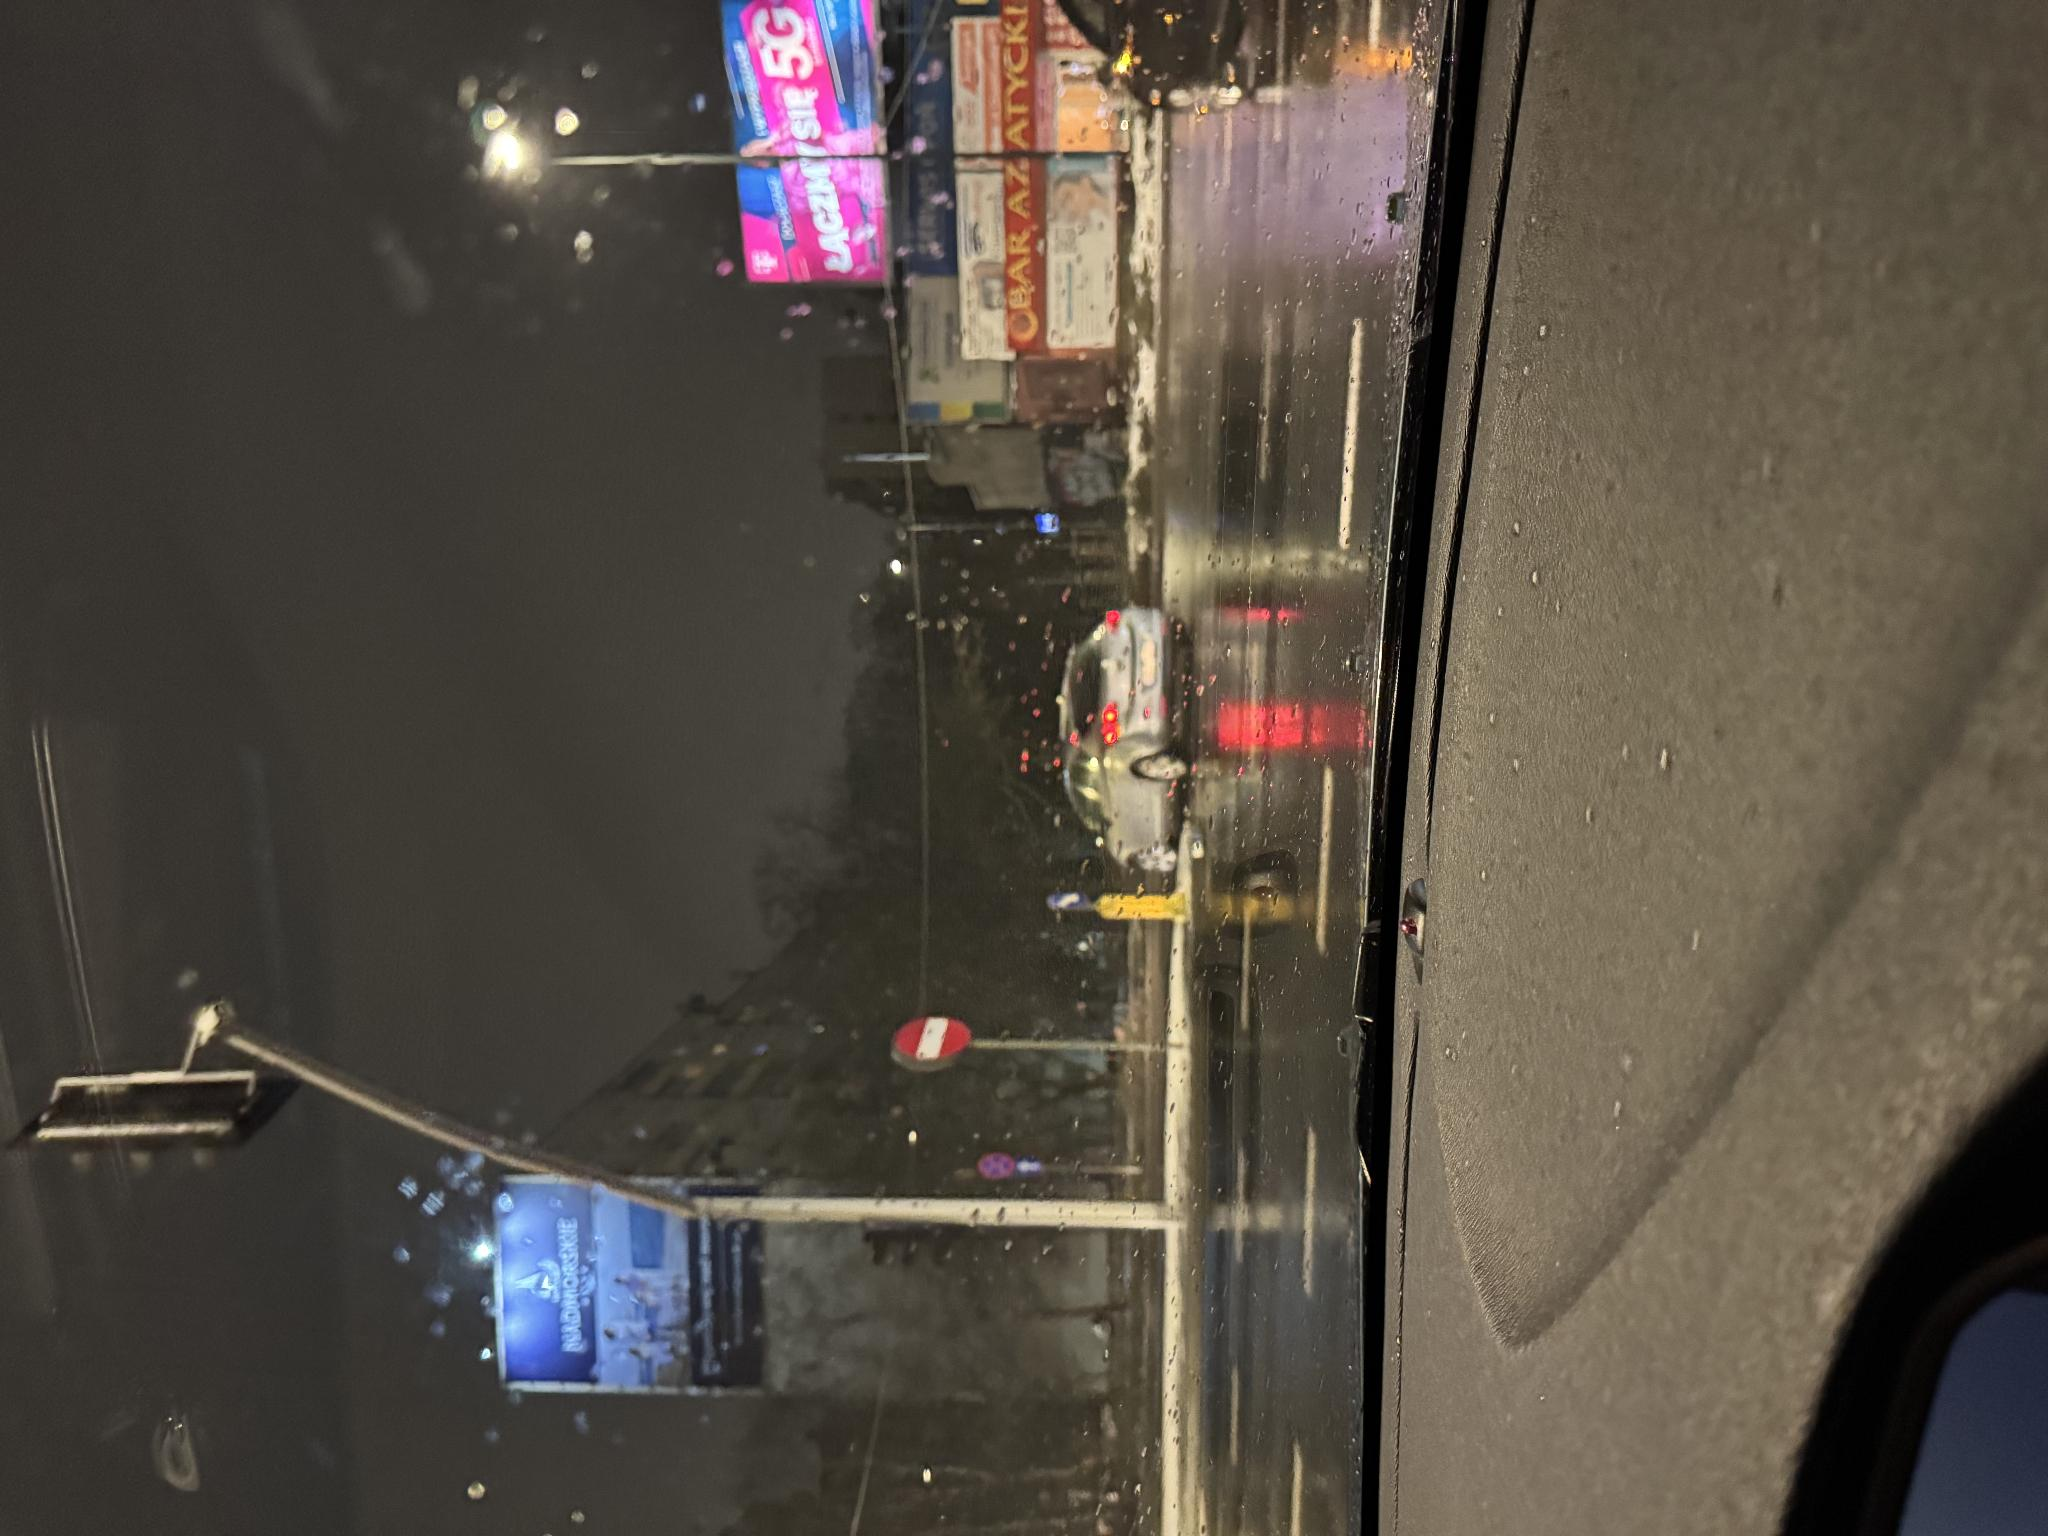information: (358, 1017, 380, 1043)
mandatory: (626, 1046, 648, 1090)
prohibitory: (474, 892, 522, 972), (354, 976, 386, 1016)
